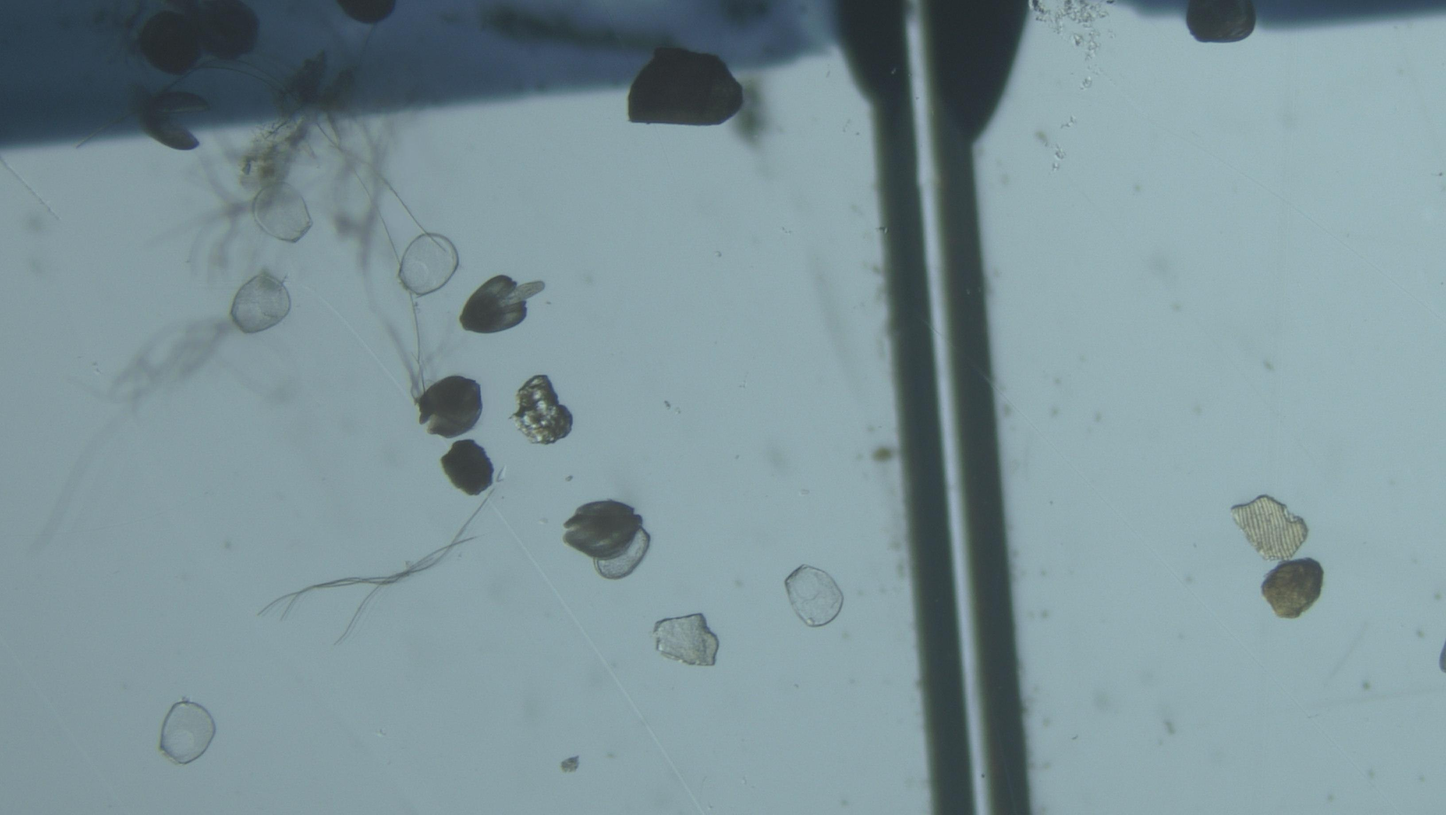dead: (159, 698, 216, 765), (398, 233, 458, 296), (231, 271, 291, 333), (785, 565, 844, 627), (253, 185, 312, 242), (594, 528, 650, 580)
live: (460, 276, 545, 334), (564, 501, 642, 559)
